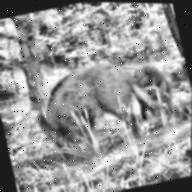boar: (22, 49, 161, 184)
